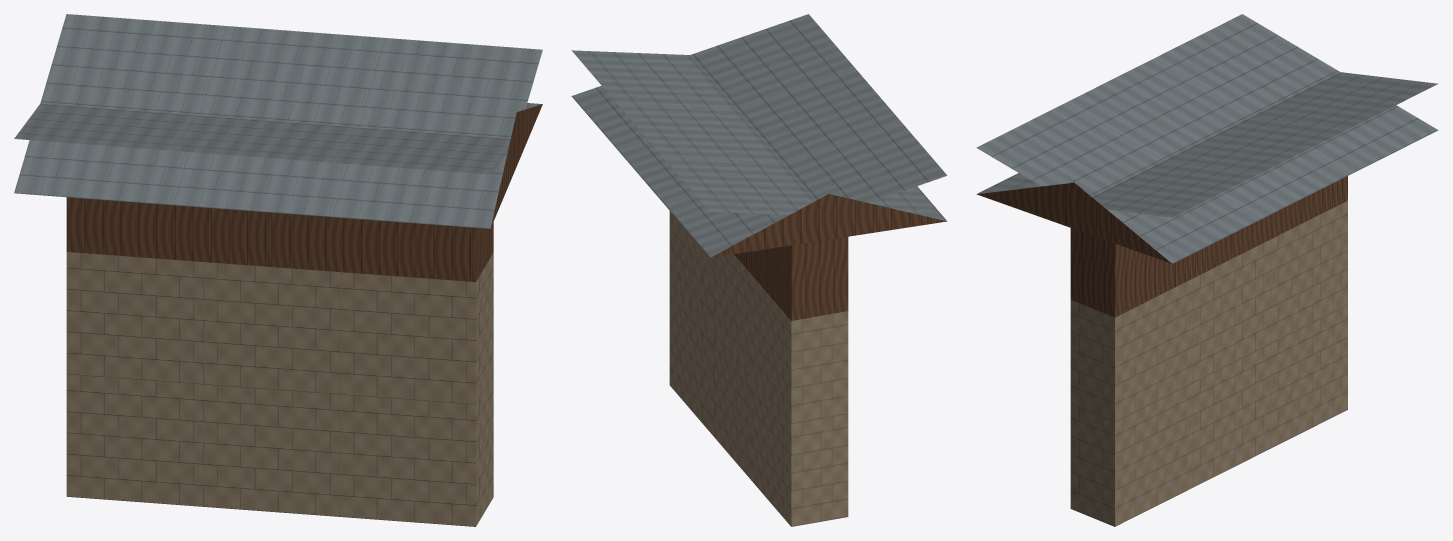
Rendered from bld_c12_29_384.gltf.
3 renders of one model, left to right at view 1: azimuth 30°, elevation 25°; view 2: azimuth 150°, elevation 25°; view 3: azimuth 270°, elevation 25°, orthographic. The views are drawn at different scales.
Parts seen in each view (by area): view 1: bld_c12_29_384; view 2: bld_c12_29_384; view 3: bld_c12_29_384.
Part boxes in pixels (x1,y1,x2,y2): bld_c12_29_384: (14, 14, 542, 526); bld_c12_29_384: (571, 14, 947, 526); bld_c12_29_384: (976, 14, 1438, 526).
Bounding box in the file's own units: 9.39 × 7.4 × 9.01.
4 materials, 4 textured.
